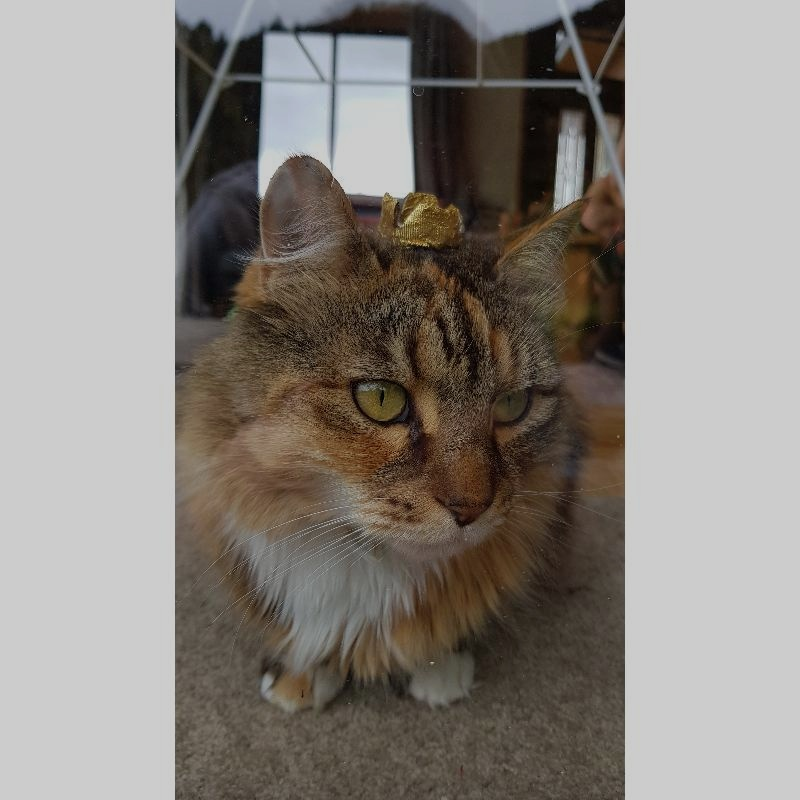yellow: (176, 149, 594, 707)
